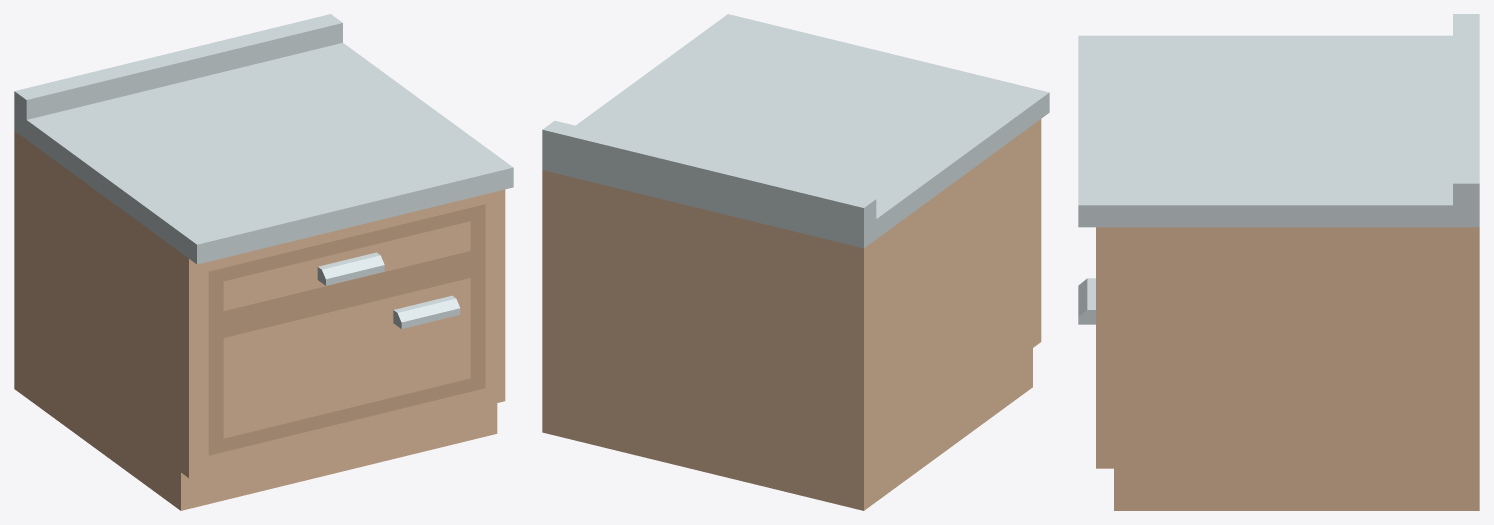
Rendered from kitchenCabinetDrawer-col.glb.
3 renders of one model, left to right at view 1: azimuth 30°, elevation 25°; view 2: azimuth 150°, elevation 25°; view 3: azimuth 270°, elevation 25°, orthographic. The views are drawn at different scales.
Parts seen in each view (by area): view 1: kitchenCabinetDrawer-col; view 2: kitchenCabinetDrawer-col; view 3: kitchenCabinetDrawer-col.
Boxes of the visible parts, bbox=[...] form: kitchenCabinetDrawer-col: bbox=[14, 14, 513, 510]; kitchenCabinetDrawer-col: bbox=[542, 14, 1049, 510]; kitchenCabinetDrawer-col: bbox=[1078, 14, 1479, 510].
Bounding box in the file's own units: 0.5 × 0.45 × 0.5.
